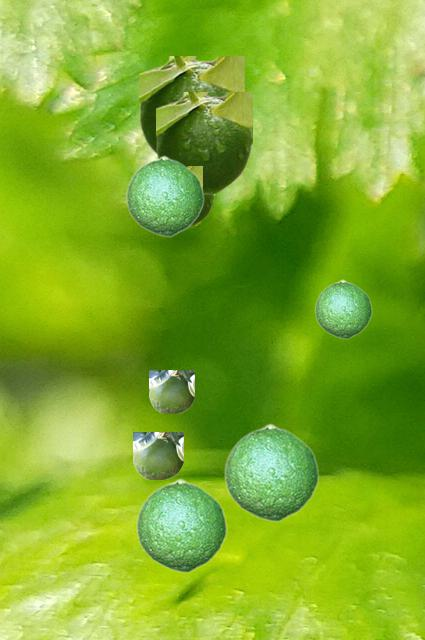dalandan: (139, 56, 243, 153), (156, 92, 251, 193), (223, 423, 318, 521), (135, 478, 226, 572), (125, 155, 203, 236), (314, 279, 371, 338), (133, 432, 182, 478), (149, 370, 193, 412), (193, 194, 212, 224), (188, 166, 201, 180)
